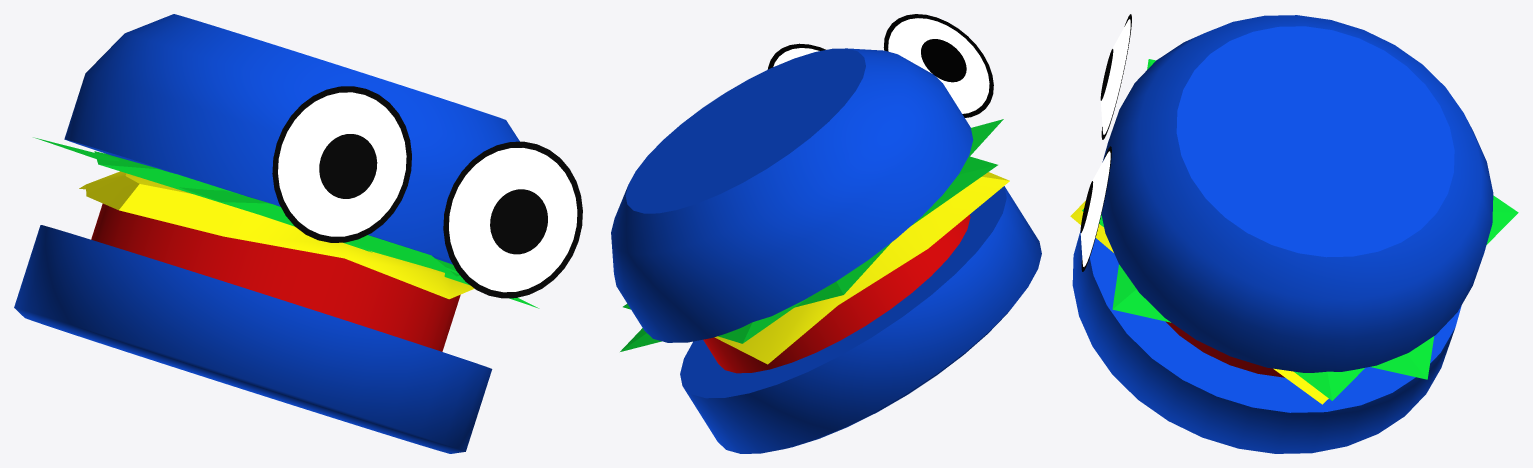
File: Burger.glb
3 views of the same model, side by side, from view 1: azimuth 30°, elevation 25°; view 2: azimuth 150°, elevation 25°; view 3: azimuth 270°, elevation 25° (orthographic). The views are drawn at different scales.
Parts seen in each view (by area): view 1: Burger; view 2: Burger; view 3: Burger.
Part boxes in pixels (bbox=[...]): Burger: bbox=[14, 14, 582, 453]; Burger: bbox=[611, 14, 1041, 453]; Burger: bbox=[1070, 14, 1518, 453].
Bounding box in the file's own units: 2.7 × 2.52 × 2.76.
